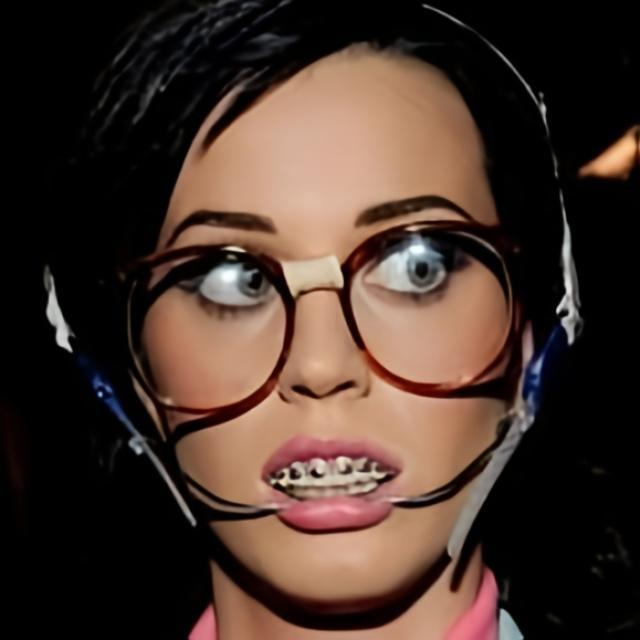surprise: (134, 40, 520, 614)
